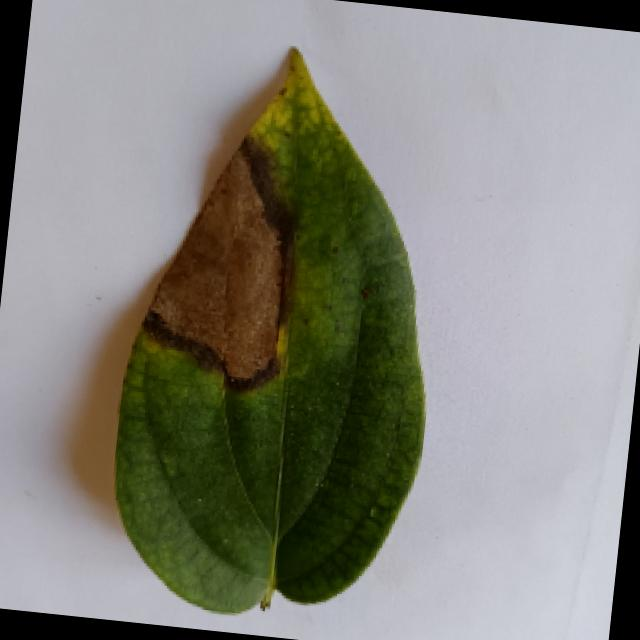footrot: (78, 34, 474, 629)
